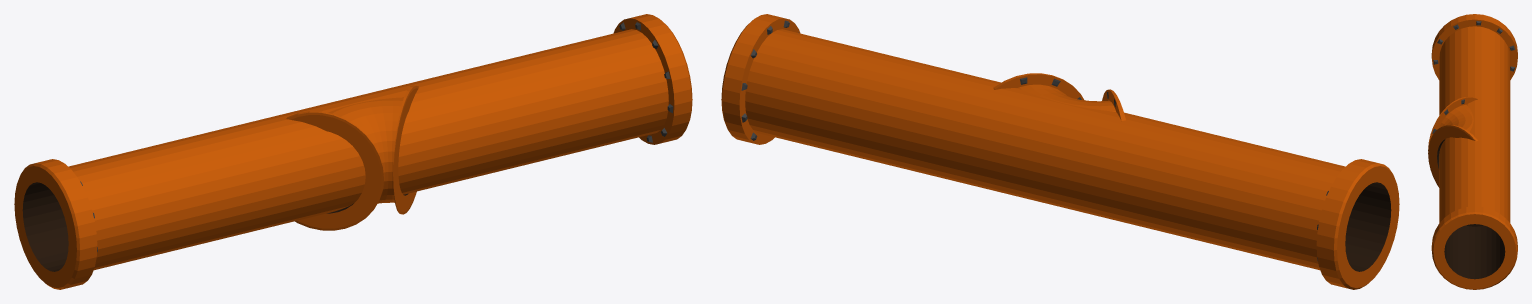
File: pipe.glb
3 views of the same model, side by side, from view 1: azimuth 30°, elevation 25°; view 2: azimuth 150°, elevation 25°; view 3: azimuth 270°, elevation 25° (orthographic). The views are drawn at different scales.
Visible parts, largest first — view 1: Pipe1, Pipe2; view 2: Pipe1, Pipe2; view 3: Pipe1, Pipe2.
Part boxes in pixels (<box>): Pipe1: <box>14,14,692,289</box>; Pipe2: <box>286,85,418,230</box>; Pipe1: <box>721,14,1399,289</box>; Pipe2: <box>993,73,1125,121</box>; Pipe1: <box>1431,14,1517,289</box>; Pipe2: <box>1428,96,1477,187</box>.
Bounding box in the file's own units: 1.92 × 0.3512 × 0.3663.
1 material, 1 textured.
